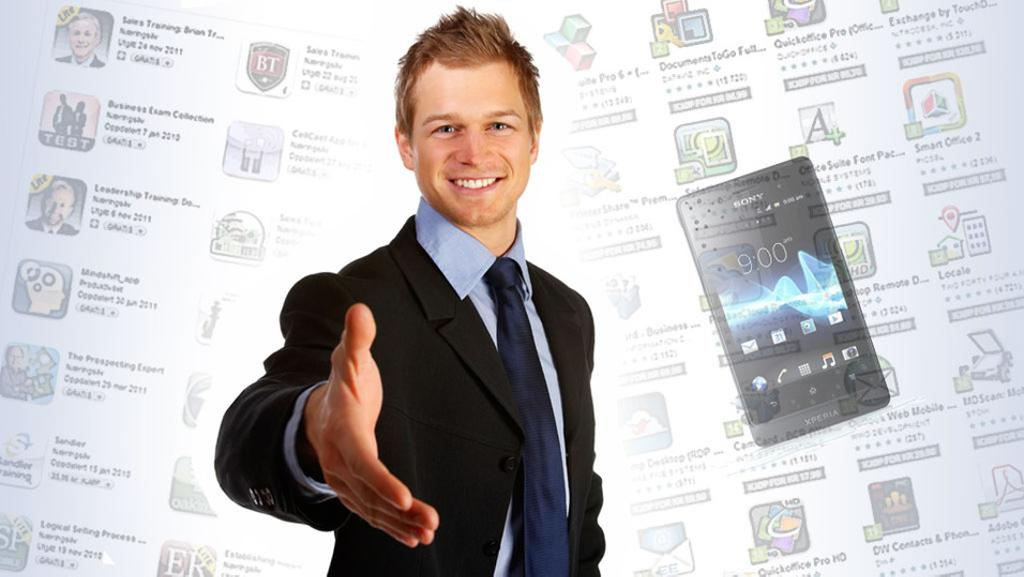face: (413, 69, 529, 226), (43, 189, 70, 223), (69, 20, 94, 55)
